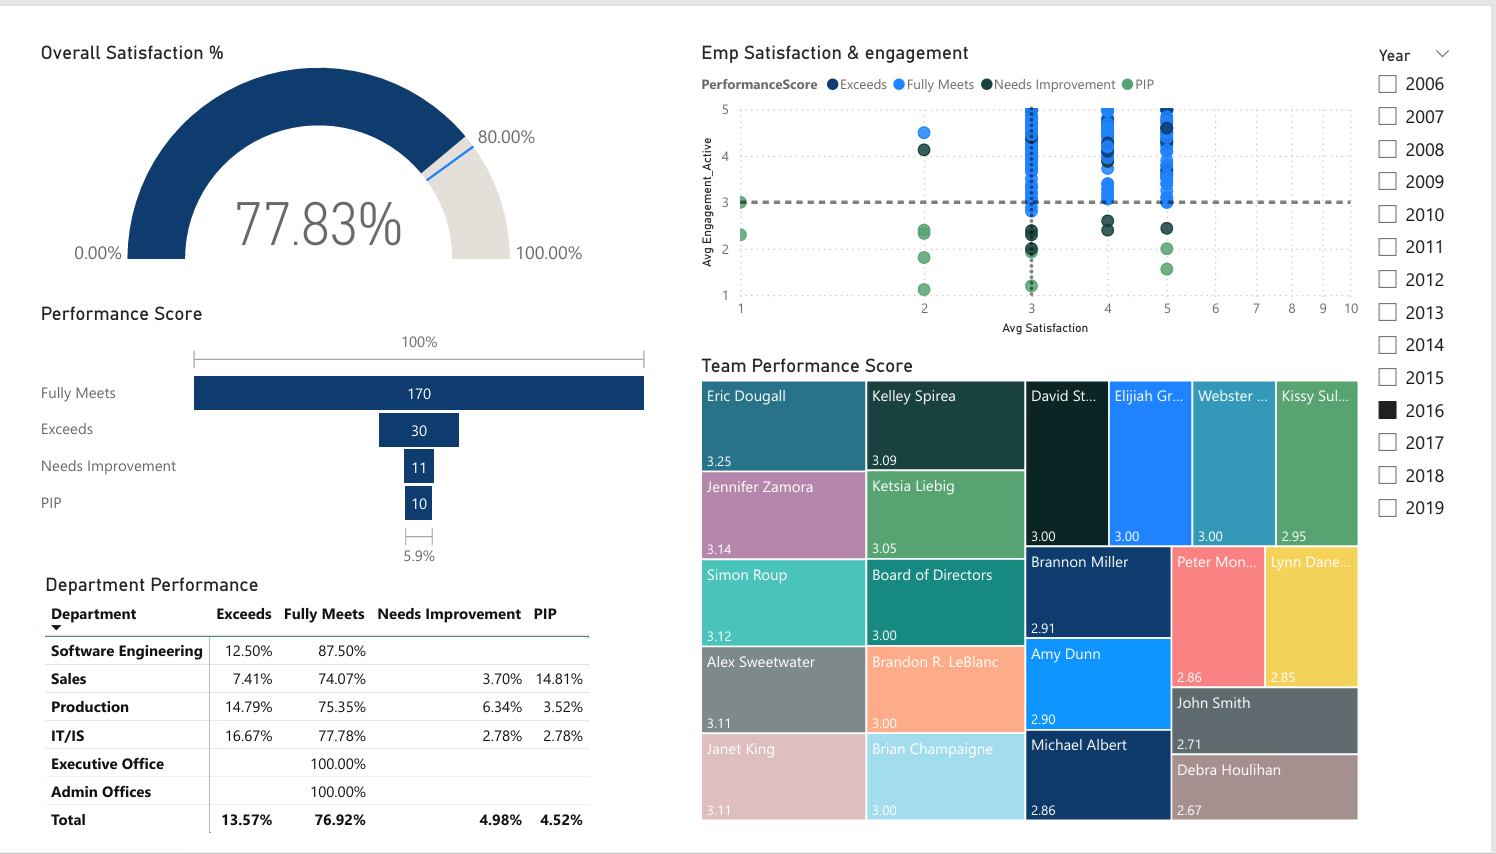

The page's visual inventory and layout, read from the dashboard file:
{"tool":"powerbi","page":{"name":" Performance & Engagement","canvas":[1280,720],"ordinal":2},"visuals":[{"type":"scatterChart","title":"Emp Satisfaction & engagement","fields":{"X":["KPI.3Avg Satisfaction"],"Size":["CountNonNull(HRDataset_v14.SpecialProjectsCount)"],"Series":["HRDataset_v14.PerformanceScore"],"Category":["HRDataset_v14.Employee_Name"],"Y":["KPI.4Avg Engagement_Active"]},"box":[596.9,6.9,594.2,266.2],"z":0},{"type":"funnel","title":"Performance Score","fields":{"Category":["HRDataset_v14.PerformanceScore"],"Y":["KPI.Active Employees"]},"box":[9.6,238.8,551.6,241.5],"z":1000},{"type":"pivotTable","title":"Department Performance ","fields":{"Rows":["HRDataset_v14.Department"],"Columns":["HRDataset_v14.PerformanceScore"],"Values":["KPI.% of Dept"]},"box":[13.7,480.3,583.2,240.1],"z":2000},{"type":"treemap","title":"Team Performance Score","fields":{"Group":["HRDataset_v14.ManagerName"],"Values":["Avg(HRDataset_v14.Performance Score Numeric)"]},"box":[596.9,285.4,594.2,419.9],"z":4000},{"type":"gauge","fields":{"Y":["KPI.Overall Satisfaction"]},"box":[9.6,6.9,521.4,204.5],"z":5000},{"type":"slicer","fields":{"Values":["DateTable.Year"]},"box":[1191.1,6.9,89.2,435],"z":6000}]}

Visuals, with their boxes in screenshot pixels (x1, y1, x2, y2), scaled from the page's 1280x720 canvas onto the 1496x854 screenshot:
"Emp Satisfaction & engagement" scatterChart: region(698, 8, 1392, 324)
"Performance Score" funnel: region(11, 283, 656, 570)
"Department Performance " pivotTable: region(16, 570, 698, 853)
"Team Performance Score" treemap: region(698, 339, 1392, 837)
gauge - KPI.Overall Satisfaction: region(11, 8, 621, 251)
slicer - DateTable.Year: region(1392, 8, 1495, 524)
